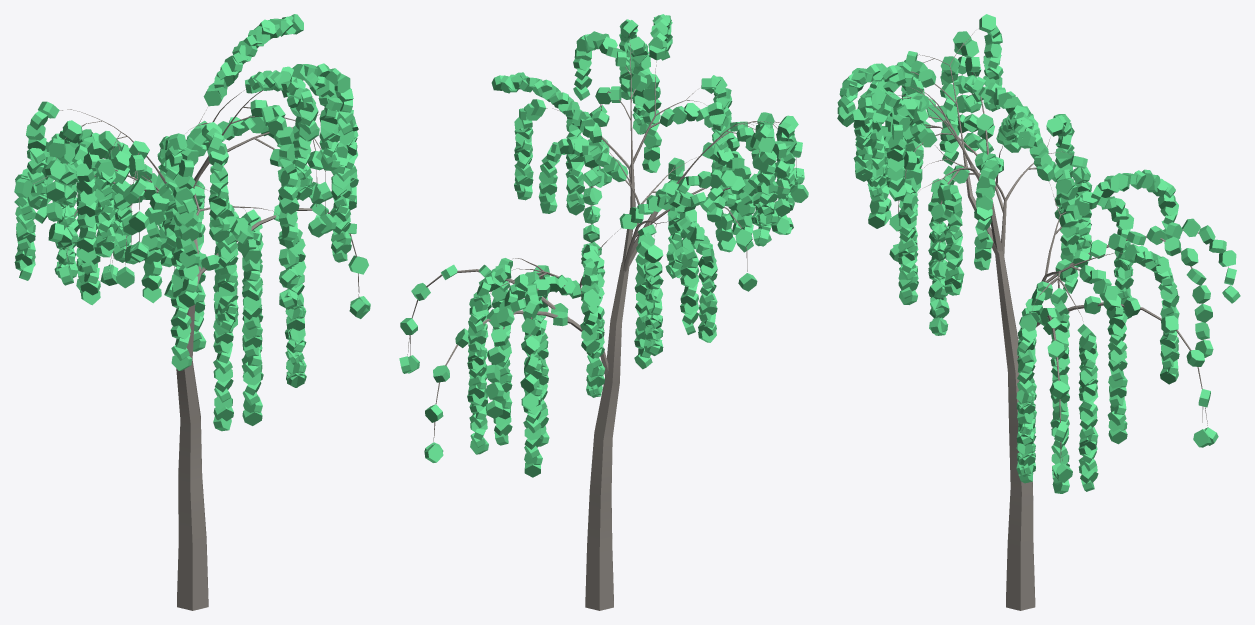
The model's file is fallenBranchesTreeSmooth.fbx.
The picture shows the model from 3 angles, left to right: view 1: azimuth 30°, elevation 25°; view 2: azimuth 150°, elevation 25°; view 3: azimuth 270°, elevation 25°; orthographic projection. The views are drawn at different scales.
Parts seen in each view (by area): view 1: fallenBranchesTree; view 2: fallenBranchesTree; view 3: fallenBranchesTree.
Boxes of the visible parts, x1,y1,x2,y2 form: fallenBranchesTree: (14, 14, 370, 610); fallenBranchesTree: (399, 14, 808, 610); fallenBranchesTree: (837, 14, 1240, 610).
Bounding box in the file's own units: 377 × 524 × 351.
